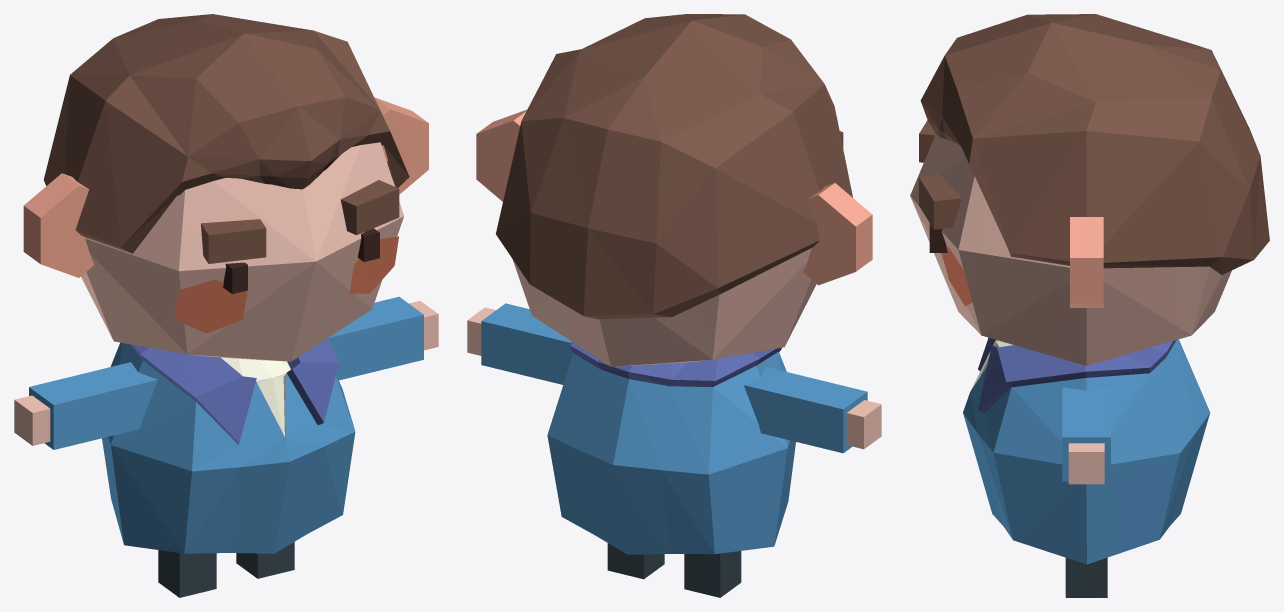
The model's file is 3D-Player.fbx.
3 views of the same model, side by side, from view 1: azimuth 30°, elevation 25°; view 2: azimuth 150°, elevation 25°; view 3: azimuth 270°, elevation 25° (orthographic). The views are drawn at different scales.
Parts seen in each view (by area): view 1: Jugador; view 2: Jugador; view 3: Jugador.
Boxes of the visible parts, x1,y1,x2,y2 form: Jugador: (14,14,438,597); Jugador: (467,14,881,597); Jugador: (910,14,1269,597).
Size of the model in its own units: 220 by 287 by 171.
2 materials, 2 textured.
